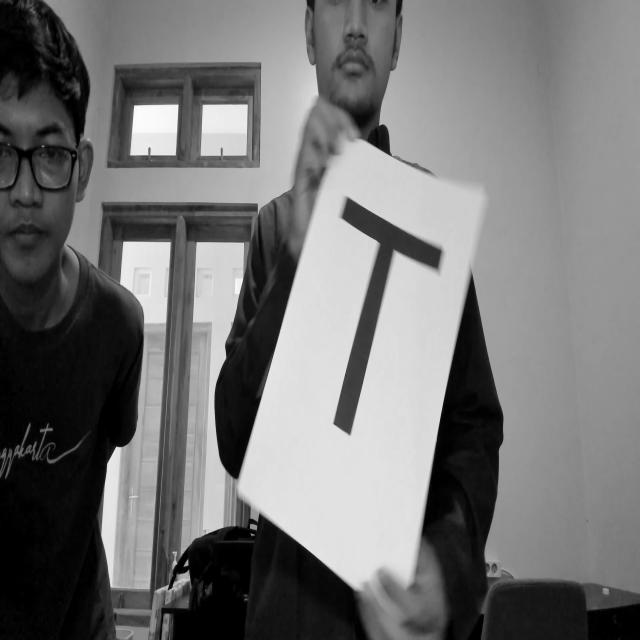t: (312, 170, 456, 486)
